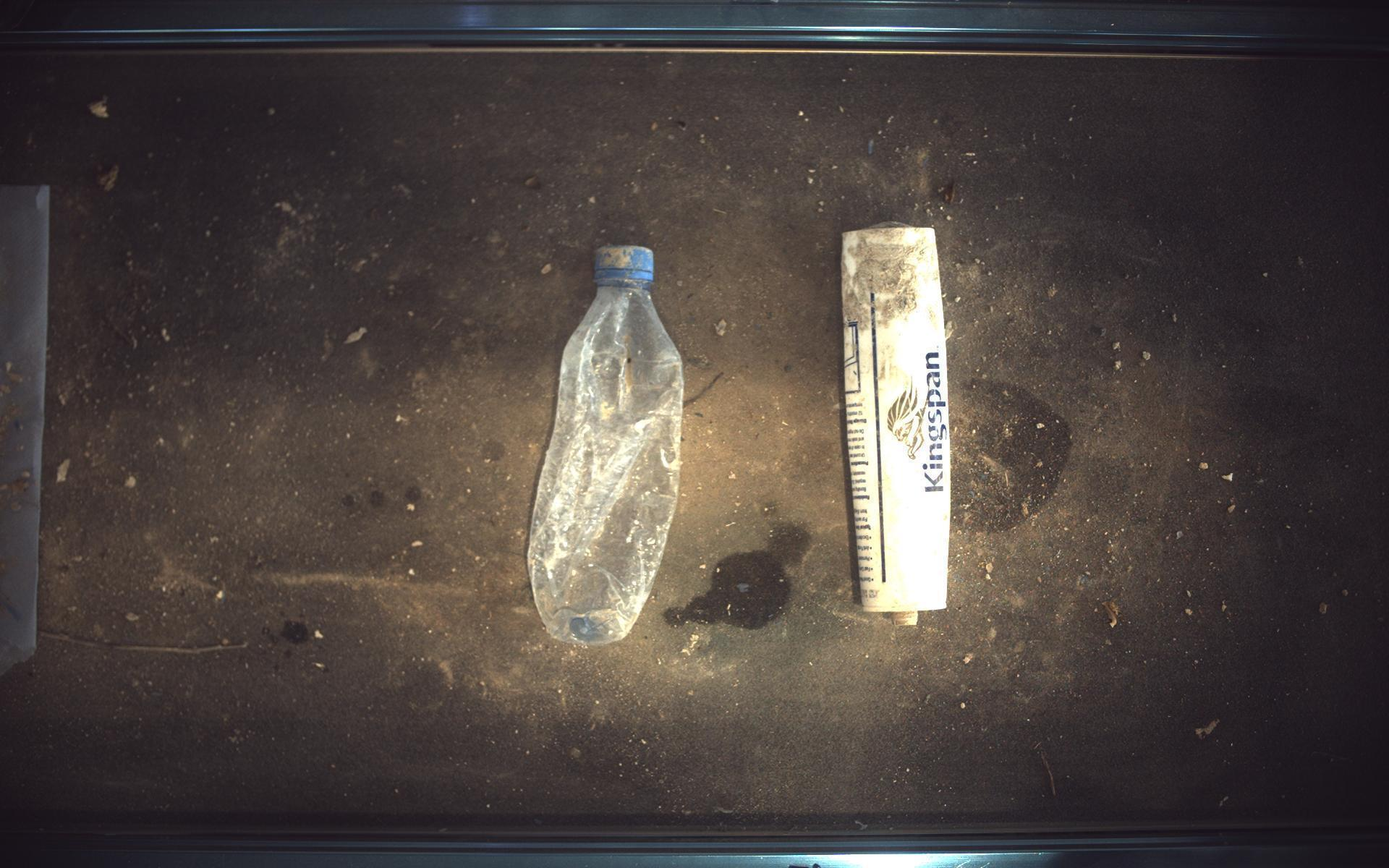general_w: (528, 245, 685, 646)
plastic: (844, 224, 953, 626)
